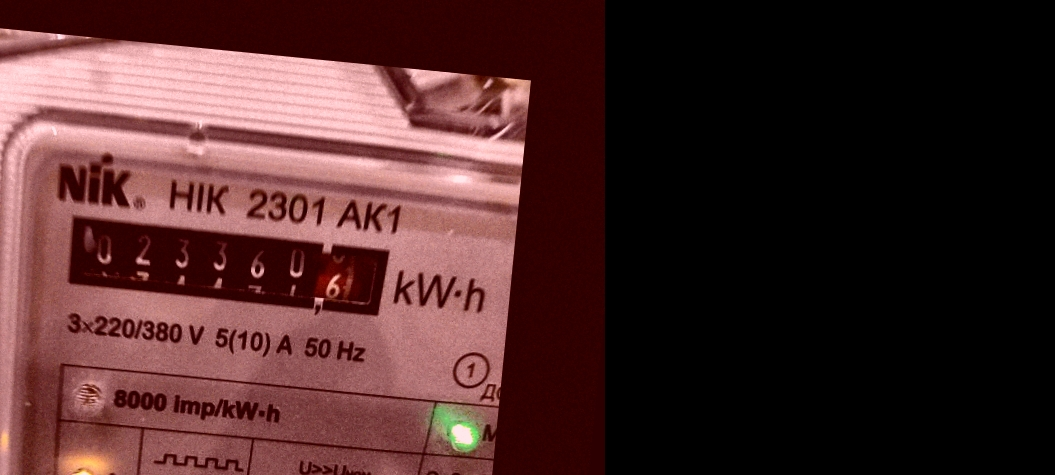0: (91, 228, 116, 265), (283, 243, 308, 280)
2: (131, 230, 155, 267)
3: (170, 234, 193, 271), (209, 237, 230, 272)
6: (245, 243, 268, 279), (321, 266, 342, 301)
screen: (50, 202, 409, 335)
